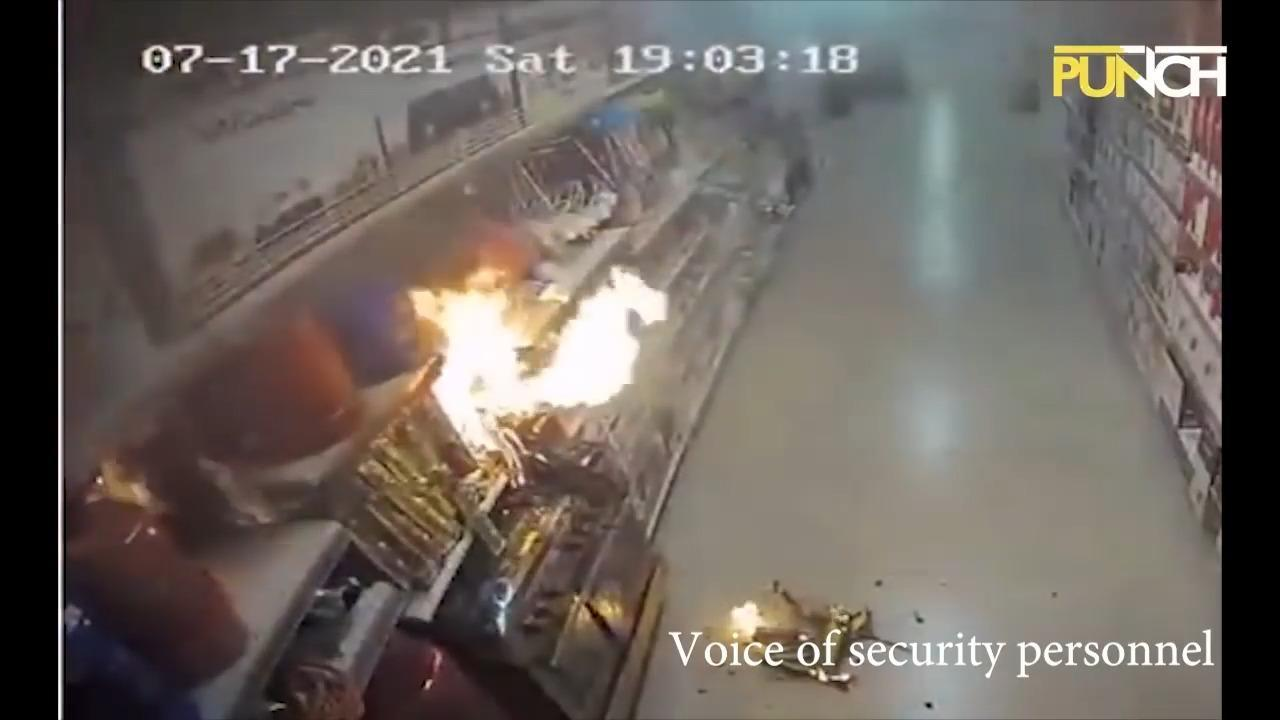fire: (408, 265, 670, 456), (732, 602, 763, 638)
